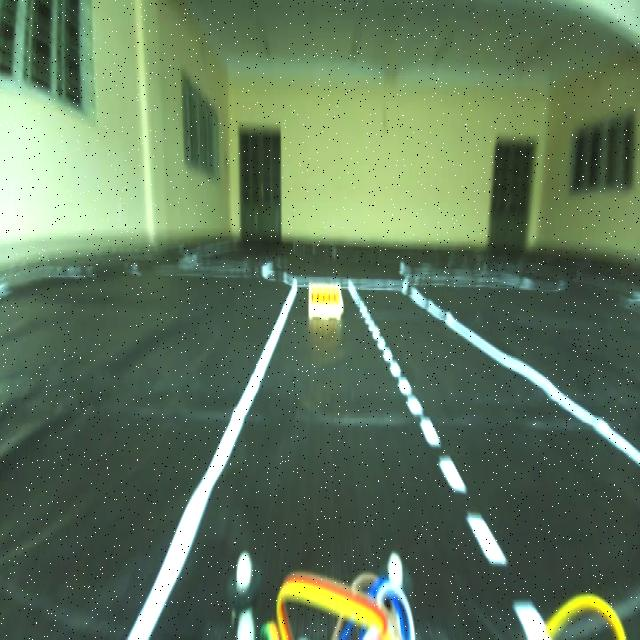roadblock: (306, 278, 346, 322)
